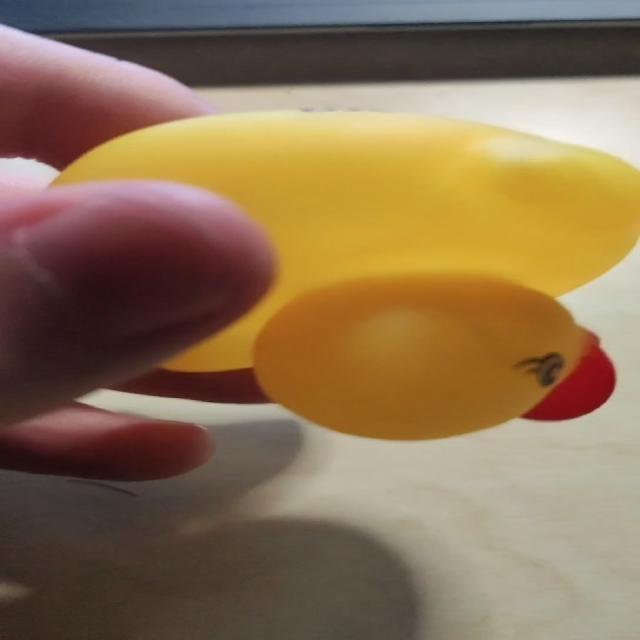rubber-duck: (54, 111, 638, 437)
